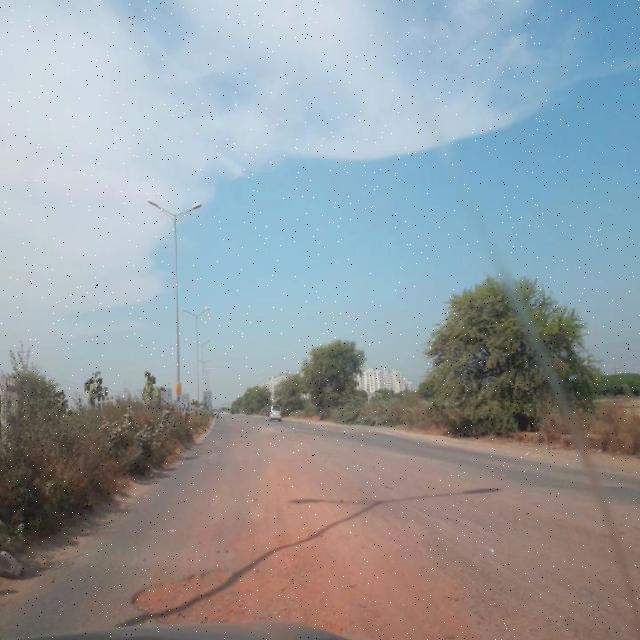D40: (105, 500, 471, 625)
